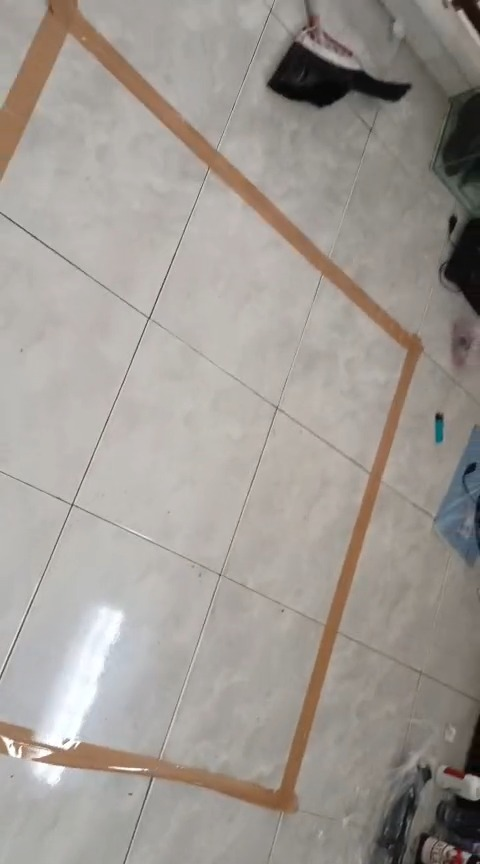floor marking: (0, 0, 421, 811)
